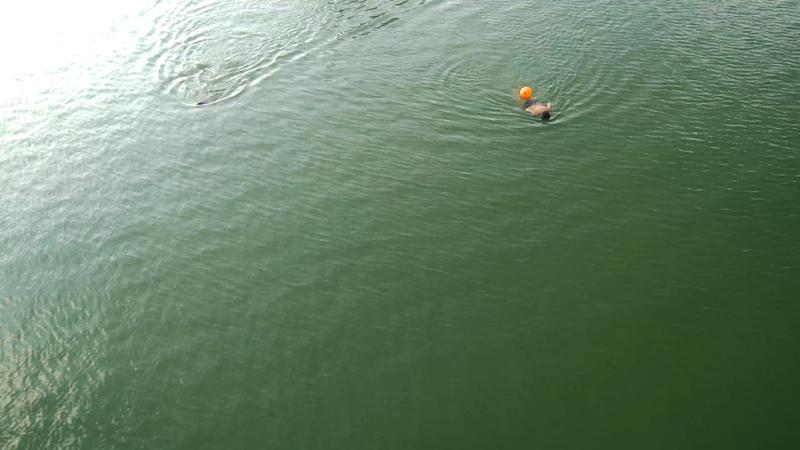swimmers: (512, 89, 552, 121)
